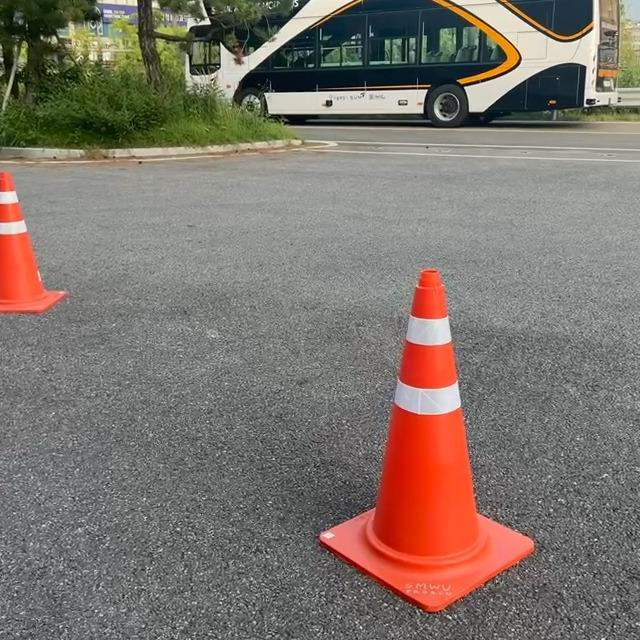fallen_object: (276, 247, 518, 590), (3, 153, 82, 320)
